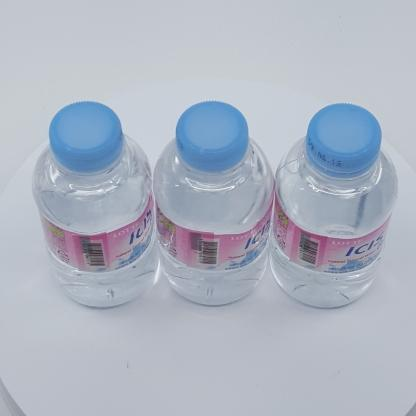------200ML: (267, 104, 398, 309), (31, 101, 158, 309), (153, 101, 275, 306)
